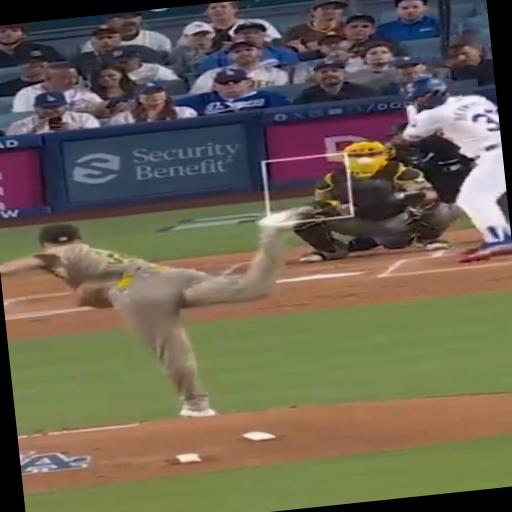bat: (407, 106, 423, 134)
